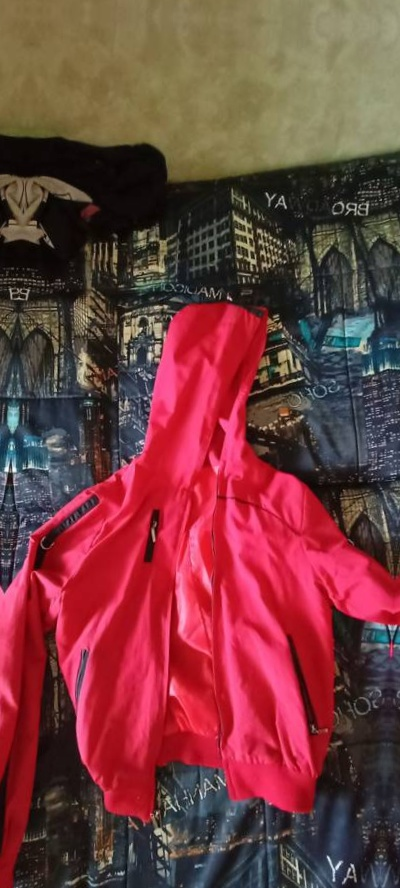Hoodie: (0, 243, 400, 888), (0, 224, 21, 888), (382, 263, 400, 888)
